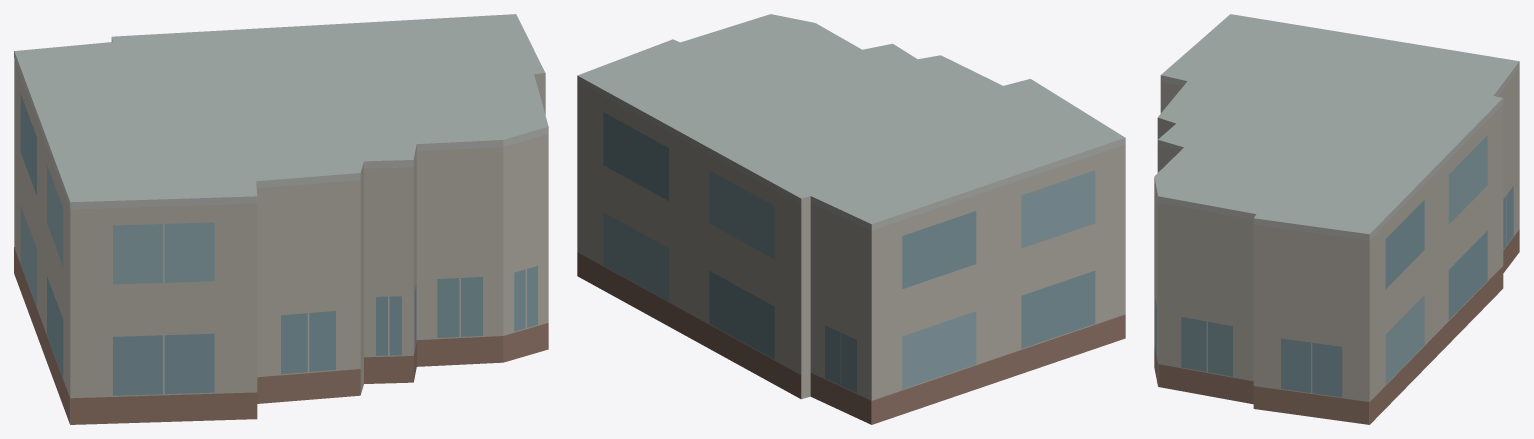
Rendered from survey-upis-32921169.glb.
3 views of the same model, side by side, from view 1: azimuth 30°, elevation 25°; view 2: azimuth 150°, elevation 25°; view 3: azimuth 270°, elevation 25° (orthographic). The views are drawn at different scales.
Parts seen in each view (by area): view 1: survey-upis-32921169.tmp; view 2: survey-upis-32921169.tmp; view 3: survey-upis-32921169.tmp.
Boxes of the visible parts, left/top/right/bottom form: survey-upis-32921169.tmp: left=14, top=14, right=548, bottom=424; survey-upis-32921169.tmp: left=577, top=14, right=1125, bottom=424; survey-upis-32921169.tmp: left=1154, top=14, right=1519, bottom=424.
Size of the model in its own units: 18.84 by 7.6 by 13.21.
